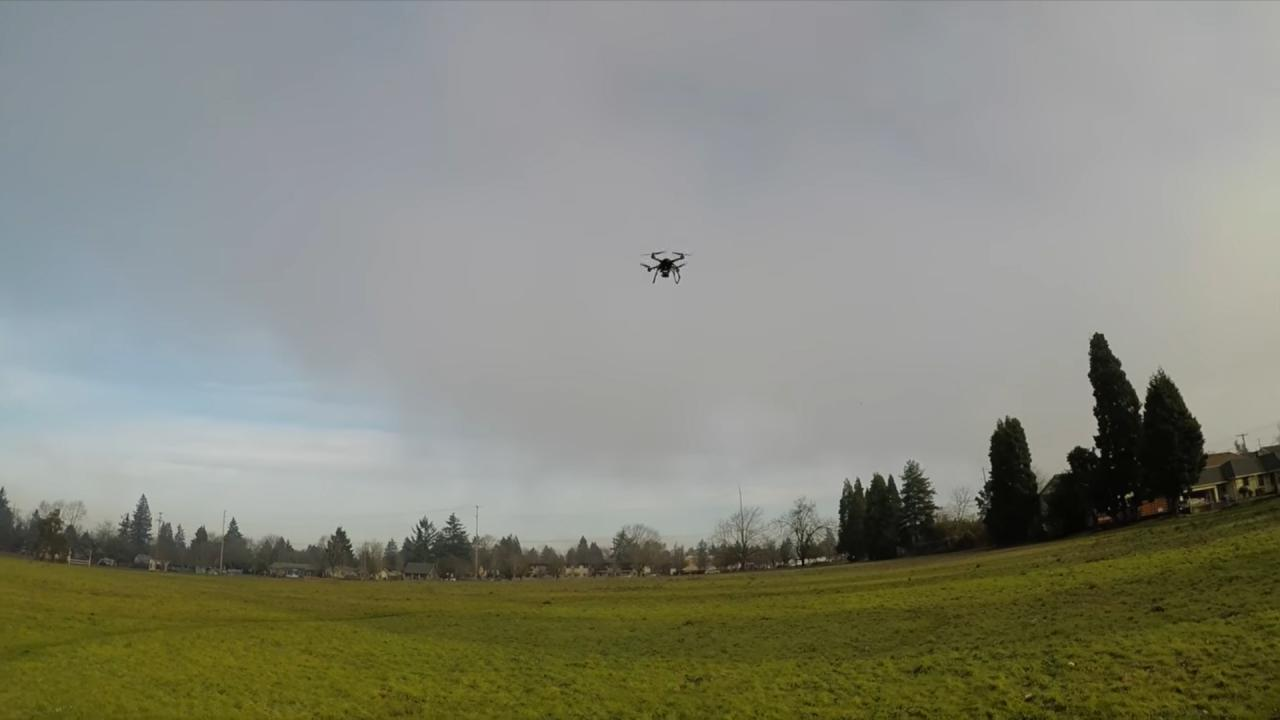Drone: (625, 242, 704, 298)
